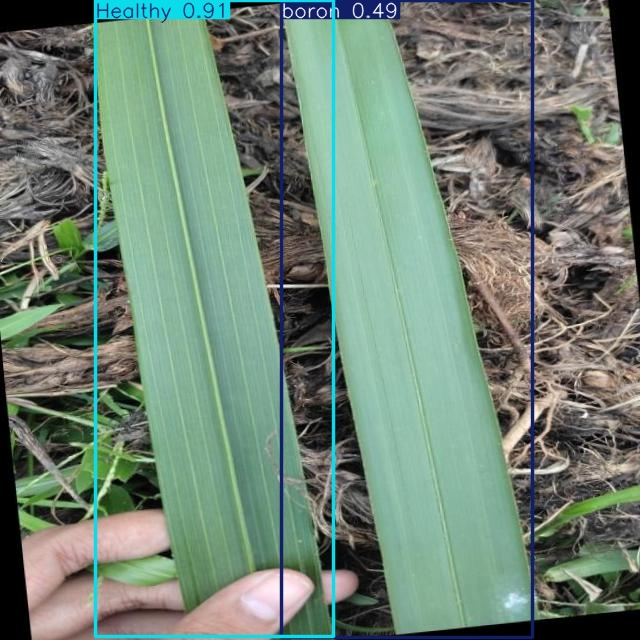Healthy: (95, 1, 333, 637)
nitrogen: (282, 0, 532, 638)
